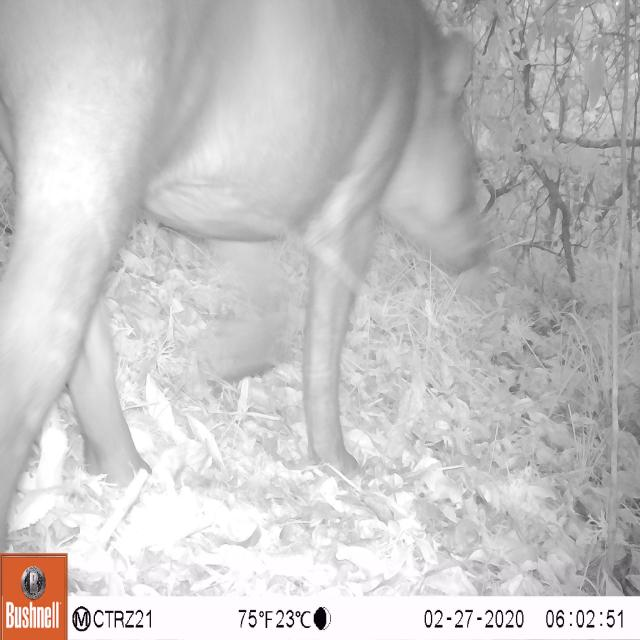Lowland Tapir: (1, 0, 498, 533)
